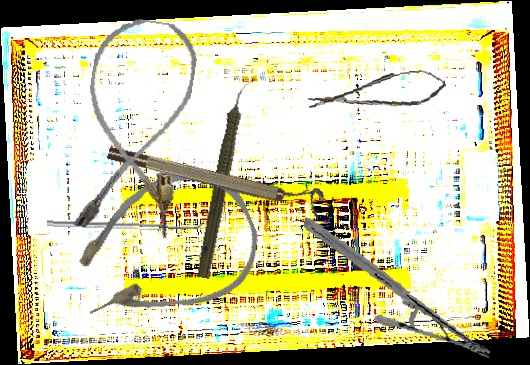Cannula: (52, 152, 275, 346), (68, 12, 202, 241)
Fixation Ring: (105, 133, 326, 220)
Handpiece: (192, 76, 257, 281)
Micro Scissor: (306, 67, 448, 117)
Needle Holder: (290, 217, 504, 360)
Spatula Surgical: (46, 214, 204, 232)
